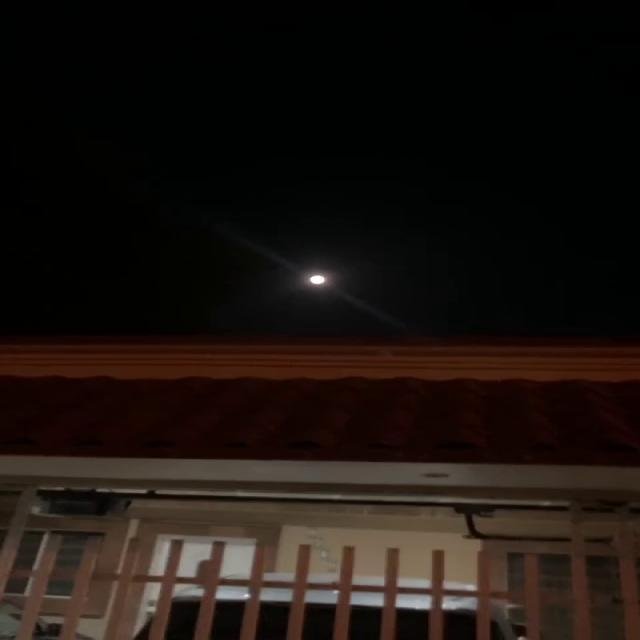moon: (301, 271, 337, 296)
